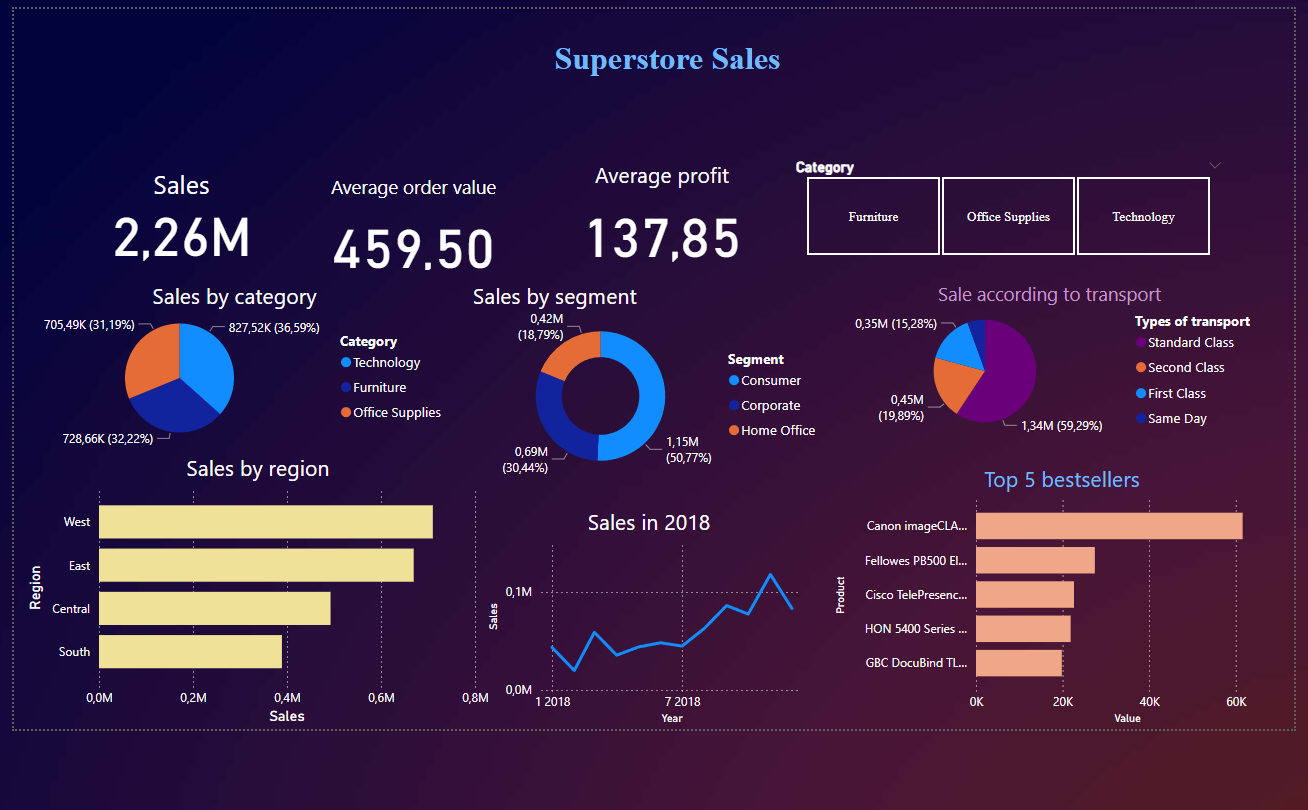

The dashboard page shown, as its layout file describes it:
{"tool":"powerbi","page":{"name":"Strana 1","canvas":[1280,720],"ordinal":0},"visuals":[{"type":"card","title":"Sales","fields":{"Values":["Sum(superstore_sales.Sales)"]},"box":[49.6,157.6,235.4,100.2],"z":0},{"type":"pieChart","title":"Sales by category","fields":{"Y":["superstore_sales.Tržby"],"Category":["superstore_sales.Category"]},"box":[0,272.3,440.6,171.2],"z":1000},{"type":"lineChart","title":"Sales in 2018","fields":{"Category":["superstore_sales.Order Date.Variácia.Date Hierarchy.Year","superstore_sales.Order Date.Variácia.Date Hierarchy.Month"],"Y":["superstore_sales.Tržby"]},"box":[468.8,498,332.6,221.8],"z":2000},{"type":"barChart","title":"Sales by region","fields":{"Y":["Sum(superstore_sales.Sales)"],"Category":["superstore_sales.Region"]},"box":[7.8,443.5,471.7,276.2],"z":3000},{"type":"cardVisual","title":"Average profit","fields":{"Data":["superstore_sales.AverageProfit"]},"box":[533,150.8,229.5,107],"z":4000},{"type":"barChart","title":"Top 5 bestsellers","fields":{"Category":["superstore_sales.Product Name"],"Y":["Sum(superstore_sales.Sales)"]},"box":[816,455.2,464,264.6],"z":5000},{"type":"donutChart","title":"Sales by segment","fields":{"Category":["superstore_sales.Segment"],"Y":["Sum(superstore_sales.Sales)"]},"box":[454.2,272.3,361.8,208.1],"z":6000},{"type":"cardVisual","title":"Average order value","fields":{"Data":["superstore_sales.AverageOrderValue"]},"box":[300.5,165.3,197.4,100.2],"z":7000},{"type":"pieChart","title":"Sale according to transport","fields":{"Category":["superstore_sales.Ship Mode"],"Y":["Sum(superstore_sales.Sales)"]},"box":[816,272.3,438.7,160.5],"z":7001},{"type":"slicer","fields":{"Values":["superstore_sales.Category"]},"box":[769.4,144.9,450.3,106],"z":7002},{"type":"textbox","box":[440.6,26.3,425,47.7],"z":7003}]}

Visuals, with their boxes on the page's 1280x720 design canvas (x1, y1, x2, y2). These are canvas units, not pixel positions in the 1308x810 screenshot, which may show the page scaled, cropped or inside an application window:
"Sales" card: (left=50, top=158, right=285, bottom=258)
"Sales by category" pieChart: (left=0, top=272, right=441, bottom=444)
"Sales in 2018" lineChart: (left=469, top=498, right=801, bottom=720)
"Sales by region" barChart: (left=8, top=444, right=480, bottom=720)
"Average profit" cardVisual: (left=533, top=151, right=762, bottom=258)
"Top 5 bestsellers" barChart: (left=816, top=455, right=1280, bottom=720)
"Sales by segment" donutChart: (left=454, top=272, right=816, bottom=480)
"Average order value" cardVisual: (left=300, top=165, right=498, bottom=266)
"Sale according to transport" pieChart: (left=816, top=272, right=1255, bottom=433)
slicer - superstore_sales.Category: (left=769, top=145, right=1220, bottom=251)
textbox: (left=441, top=26, right=866, bottom=74)
